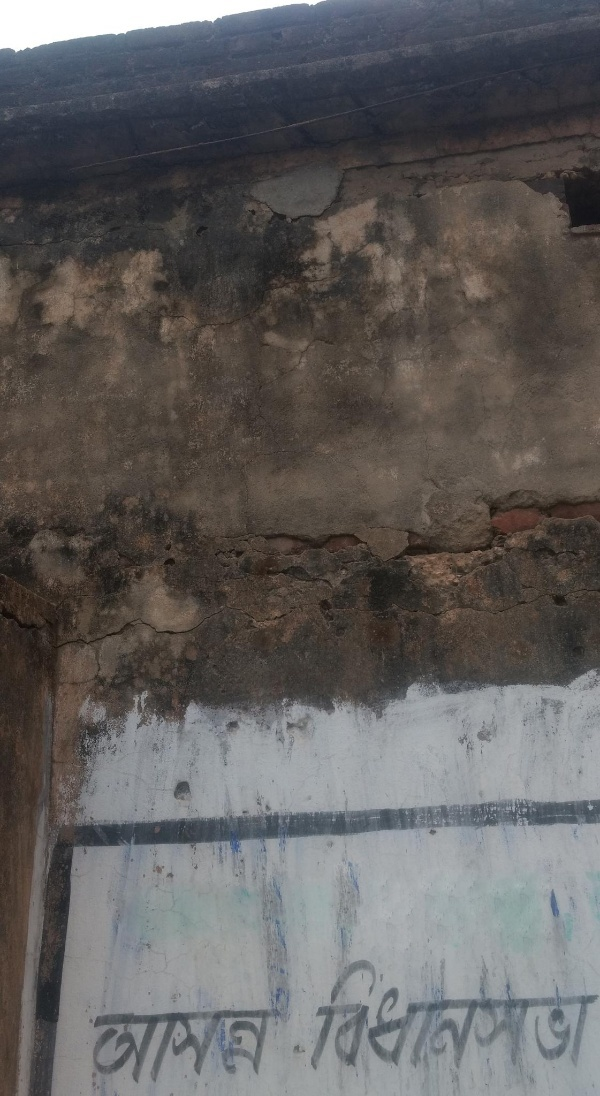text: (337, 953, 352, 1076), (353, 953, 368, 1076), (369, 953, 384, 1076), (385, 953, 400, 1076), (401, 953, 416, 1076), (417, 953, 432, 1076), (433, 953, 448, 1076), (449, 953, 464, 1076), (465, 953, 480, 1076), (481, 953, 496, 1076), (497, 953, 512, 1076), (513, 953, 528, 1076), (529, 953, 544, 1076), (545, 953, 560, 1076), (561, 953, 576, 1076), (577, 953, 592, 1076), (323, 953, 336, 1076), (97, 1008, 112, 1085), (113, 1008, 128, 1085), (129, 1008, 144, 1085), (145, 1008, 160, 1085), (161, 1008, 176, 1085), (177, 1008, 192, 1085), (193, 1008, 208, 1085), (209, 1008, 224, 1085), (225, 1008, 240, 1085), (241, 1008, 256, 1085), (257, 1008, 272, 1085), (273, 1008, 288, 1085), (593, 953, 600, 1076), (289, 1008, 291, 1085), (95, 1008, 96, 1085)
